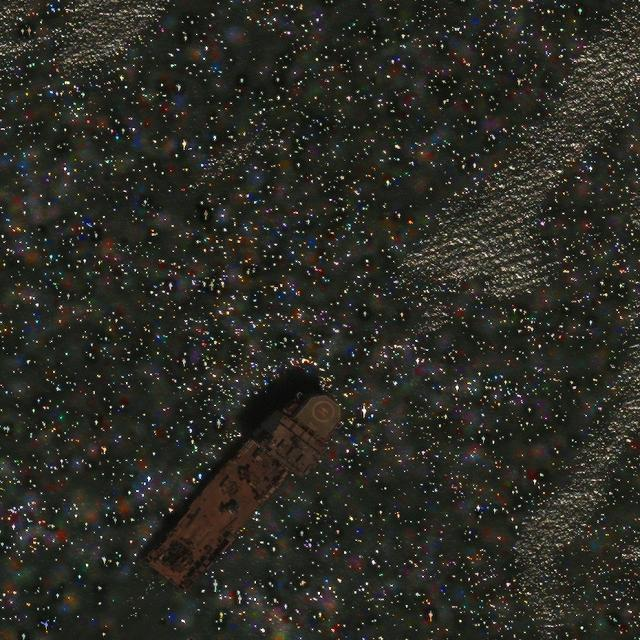Cargo: (135, 364, 359, 612)
